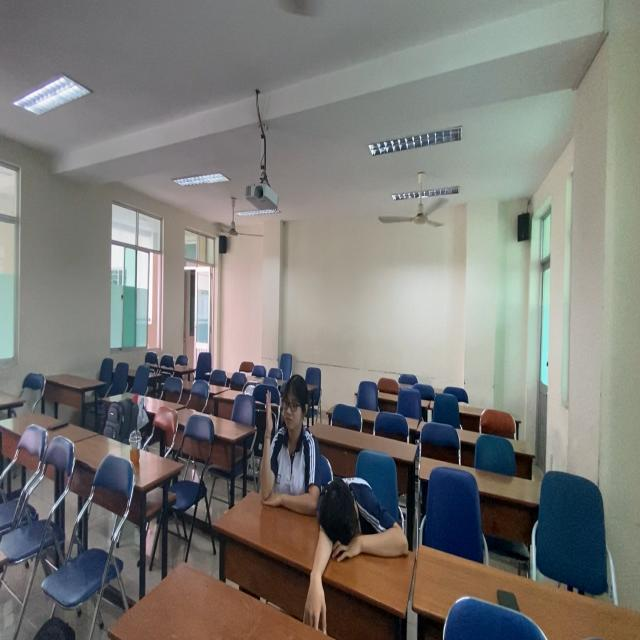raise_hand: (255, 376, 321, 525)
sleep: (308, 473, 414, 577)
